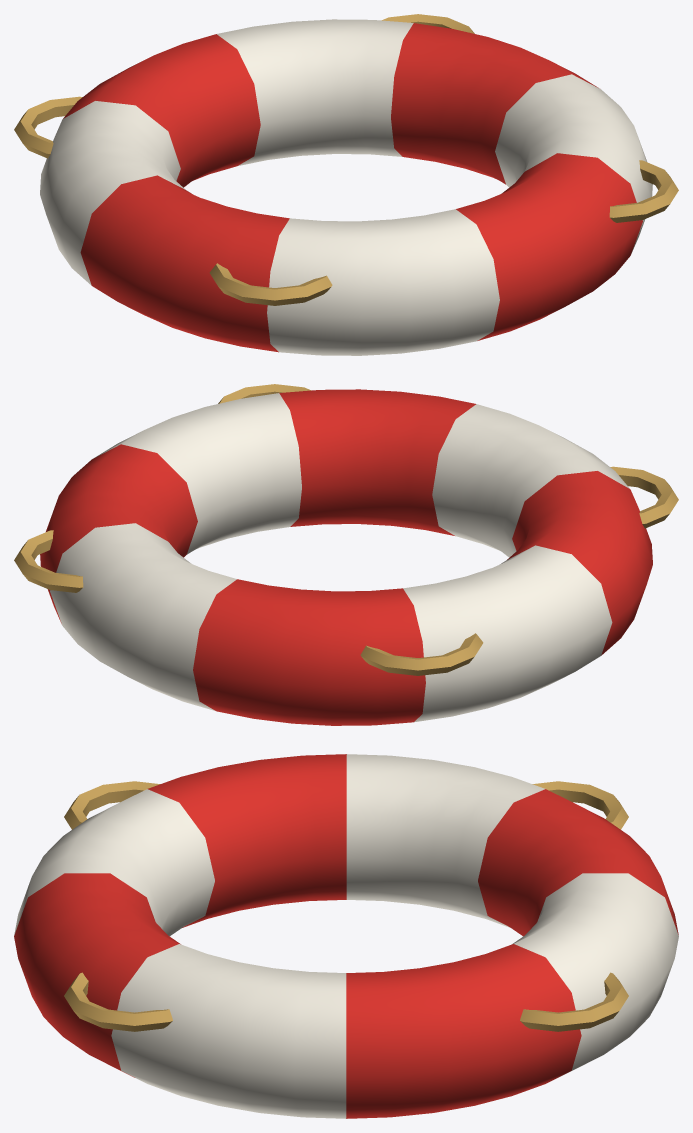
File: LifeRing.glb
The picture shows the model from 3 angles, top to bottom: view 1: azimuth 30°, elevation 25°; view 2: azimuth 150°, elevation 25°; view 3: azimuth 270°, elevation 25°; orthographic projection. The views are drawn at different scales.
Visible parts, largest first — view 1: LifeRing; view 2: LifeRing; view 3: LifeRing.
Part boxes in pixels (box(x1,y1,x2,y2)): LifeRing: box(14, 14, 678, 355); LifeRing: box(14, 384, 678, 725); LifeRing: box(14, 754, 678, 1118).
Bounding box in the file's own units: 0.77 × 0.1617 × 0.77.
